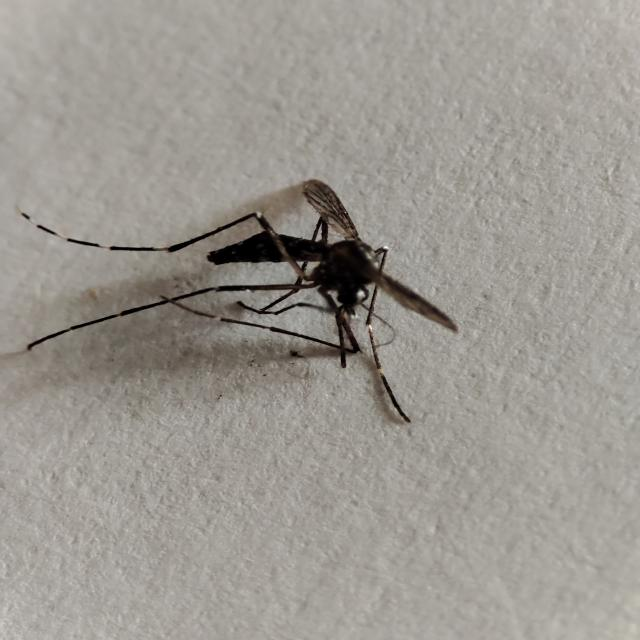albopictus: (31, 151, 469, 417)
